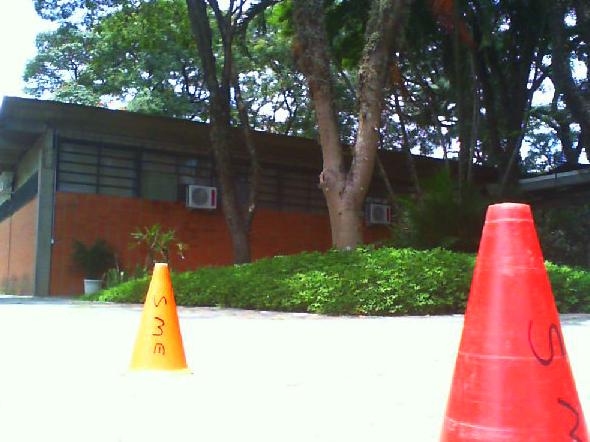0 cone: (435, 203, 590, 442), (130, 263, 189, 378)
